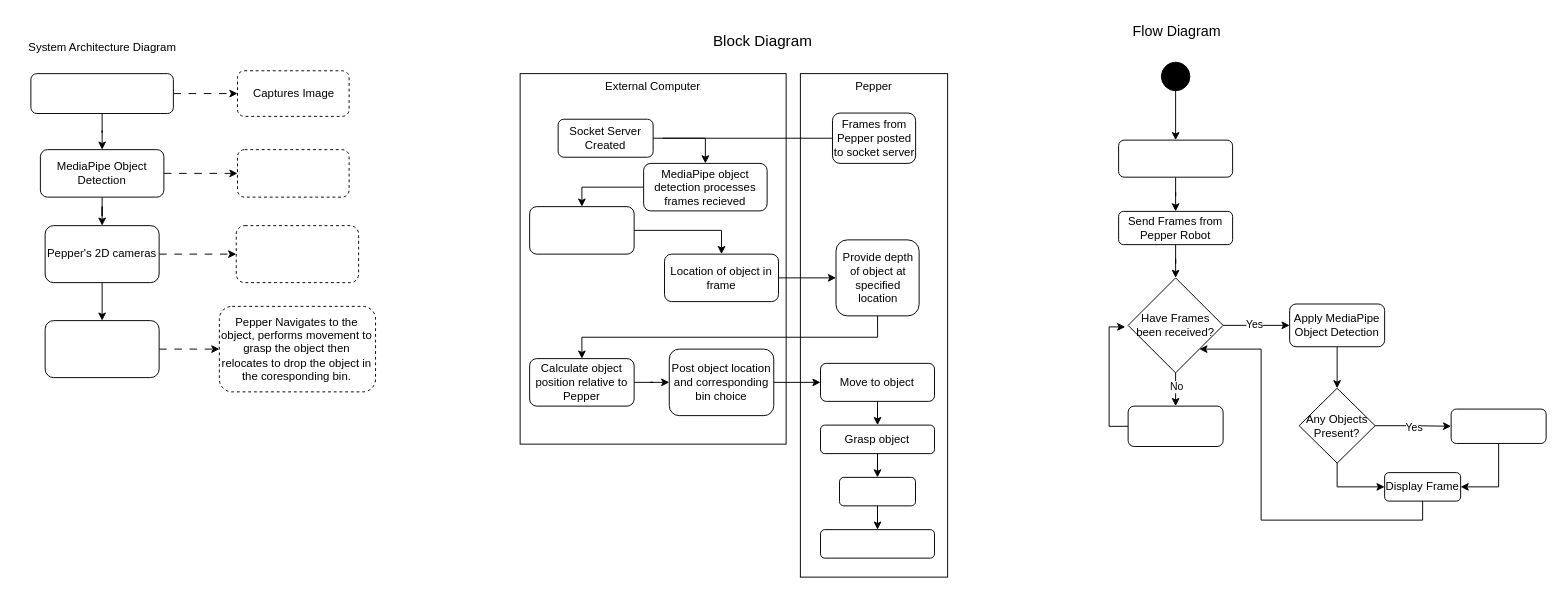
Image size: 1563x594. Some labels were removed from this diagram. The centre of each missing label's shape, as x and y in pixels:
"Detects Specified Objects and Outputs Labels" belongs at [293,173].
"Determines the depth of the object at the location provided" belongs at [297,254].
"Draw Label and Bounding Box" belongs at [1498,425].
"Drop Object" belongs at [877,543].
"Move to specified bin" belongs at [877,491].
"Movement & Grasping" belongs at [101,349].
"Object Detected" belongs at [581,230].
"Pepper's Cameras" belongs at [101,93].
"Start Socket Server" belongs at [1175,158].
"Wait for Frames" belongs at [1175,425].
